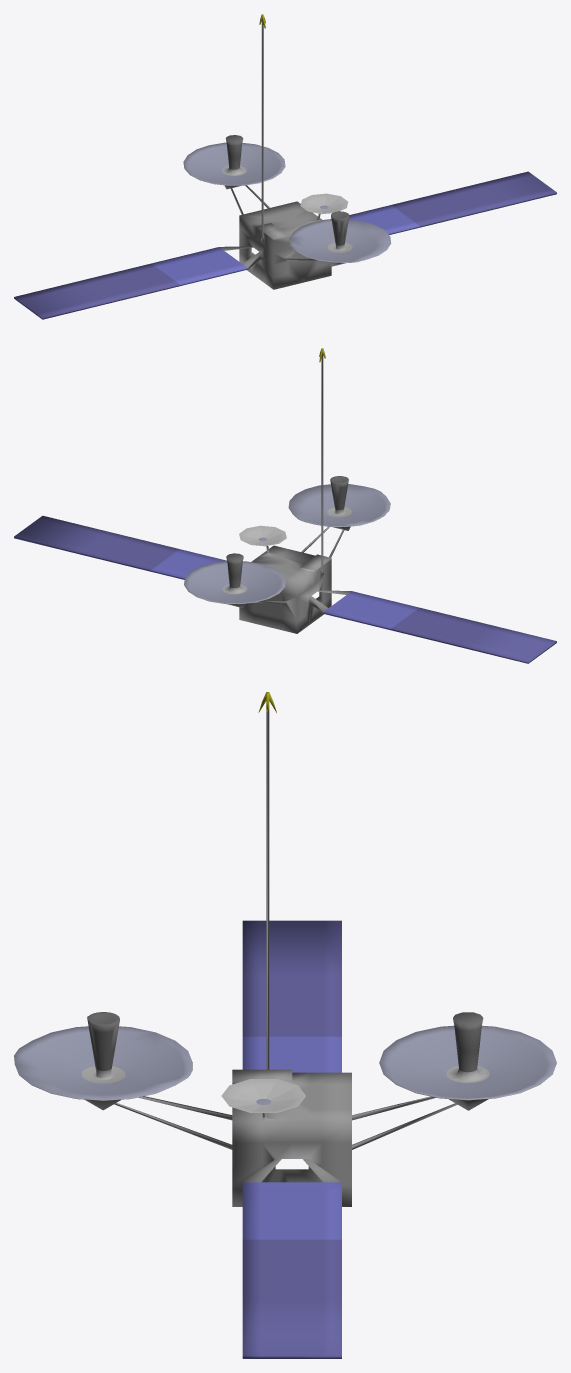
Rendered from compressed_sat.glb.
3 renders of one model, top to bottom at view 1: azimuth 30°, elevation 25°; view 2: azimuth 150°, elevation 25°; view 3: azimuth 270°, elevation 25°, orthographic. The views are drawn at different scales.
Size of what is drawn, in the model's own units: 0.8866 by 0.4488 by 0.4676.
